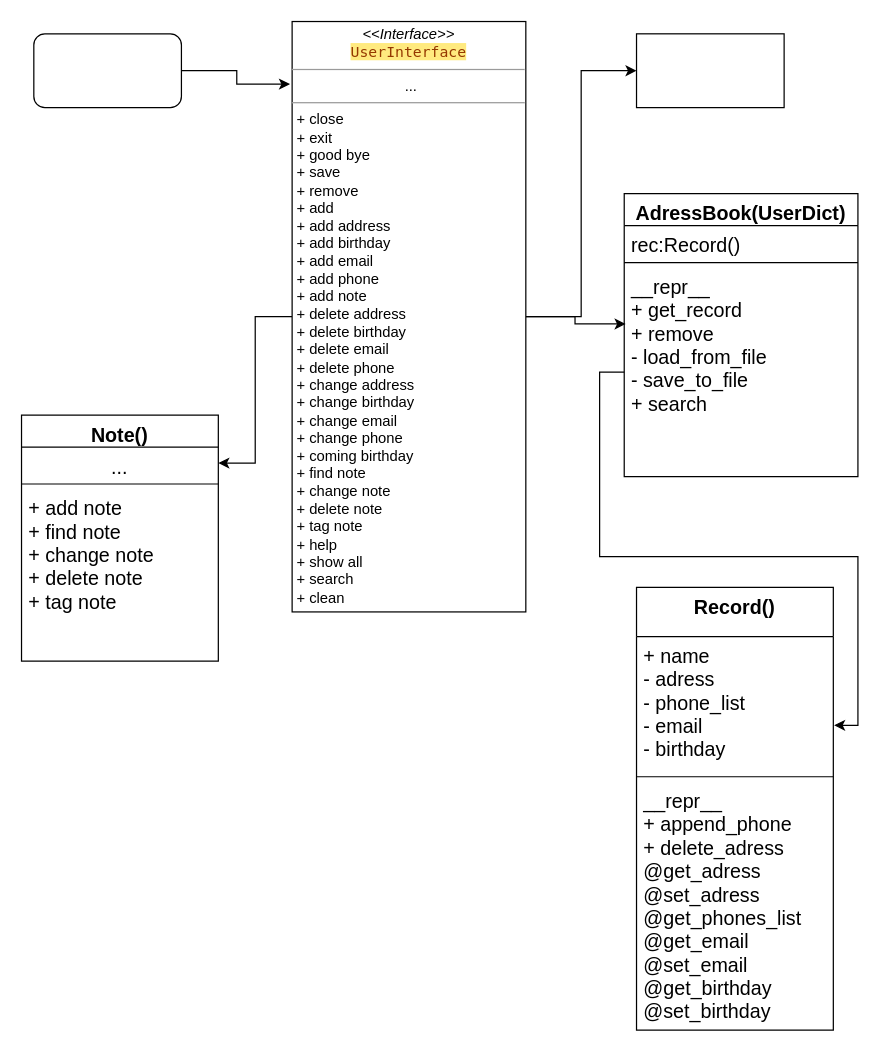
This 889x1055 diagram has some shape labels left out. Here are the shapes that lost their labels. From the top down, the centre of each, then its label:
point 107,70: Main
point 709,70: Import prompt_toolkit
